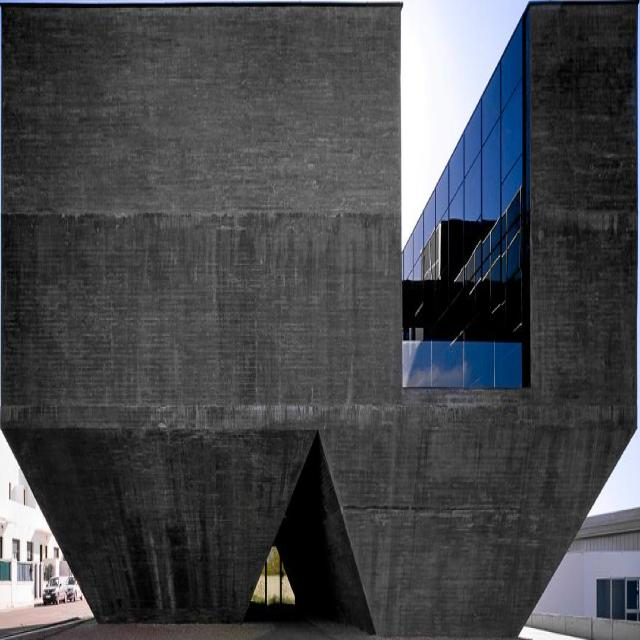railing: (401, 340, 523, 386)
window: (400, 4, 532, 386)
